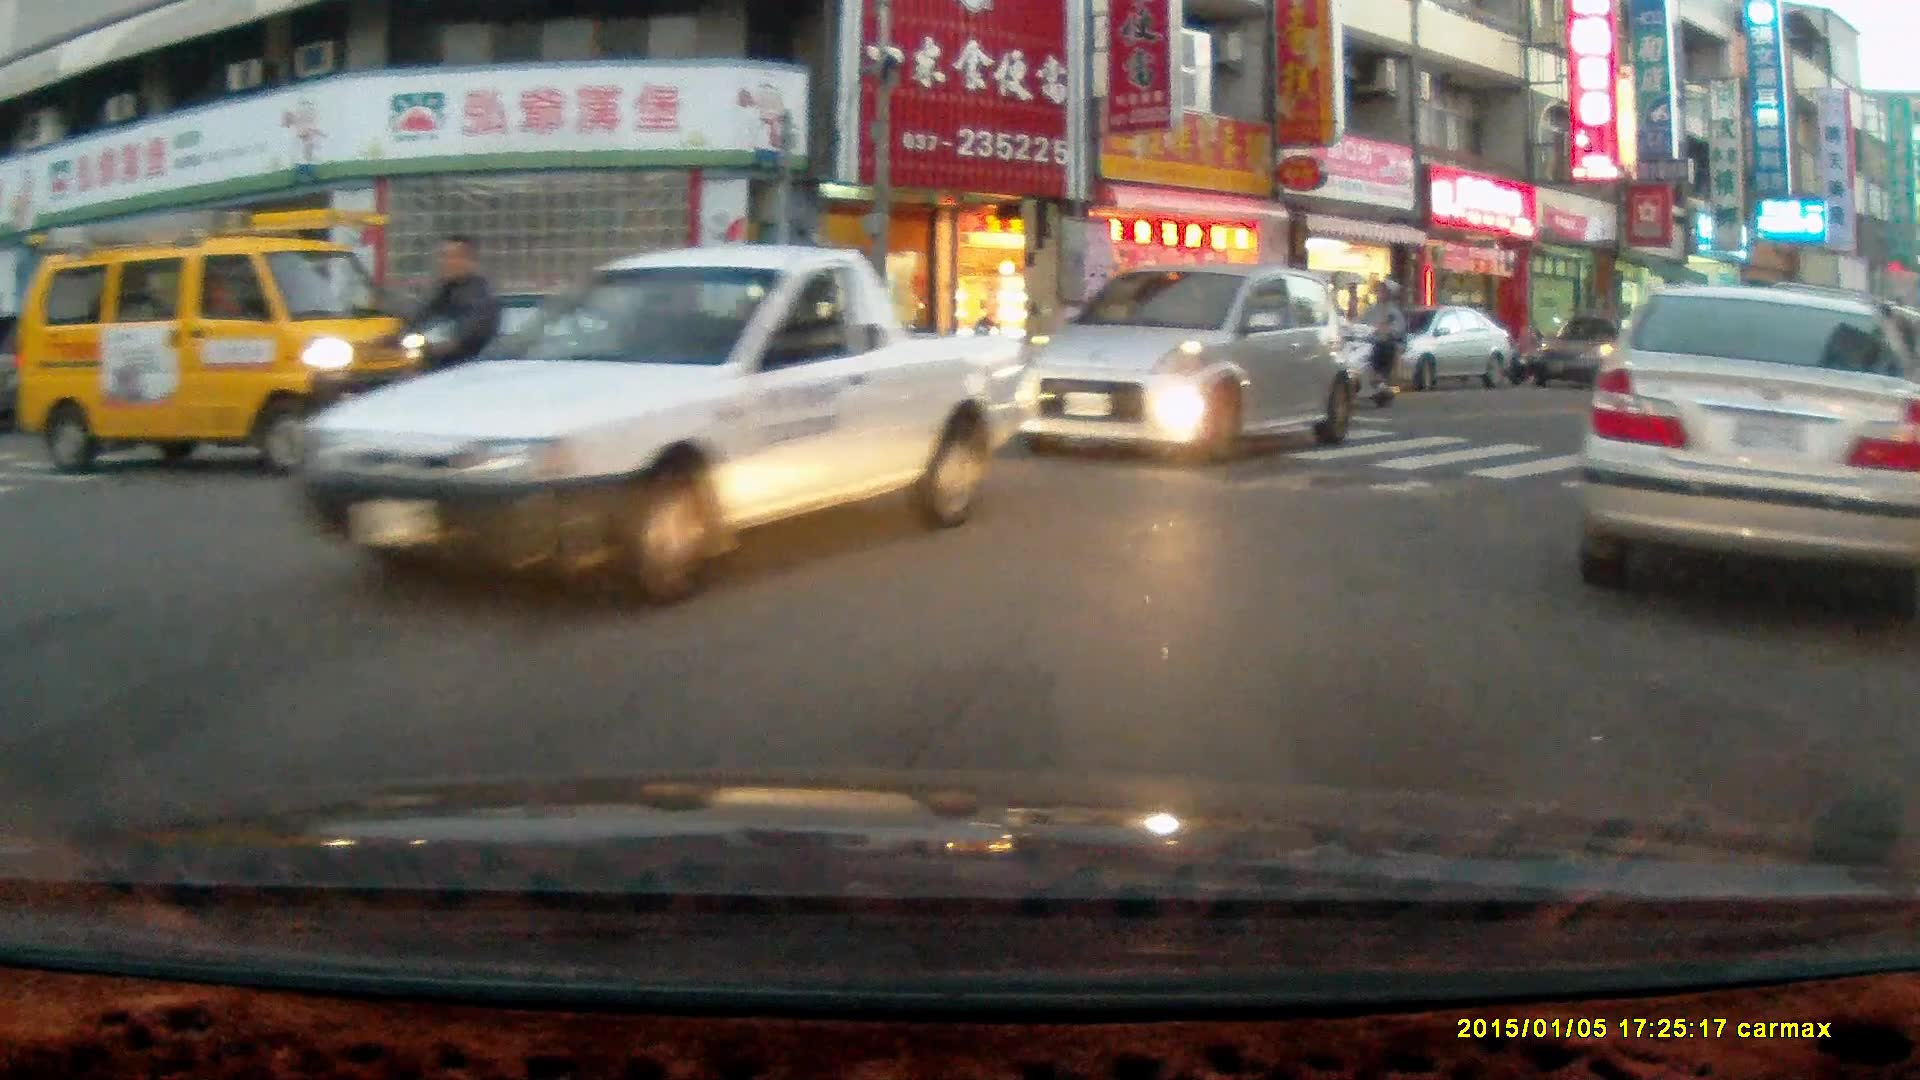rider: (342, 232, 553, 490), (1340, 272, 1407, 411)
vehicle: (279, 239, 1030, 614), (7, 204, 436, 474), (1581, 281, 1905, 628), (1007, 262, 1359, 467), (371, 289, 685, 424), (1368, 304, 1513, 387), (1523, 313, 1629, 388)
